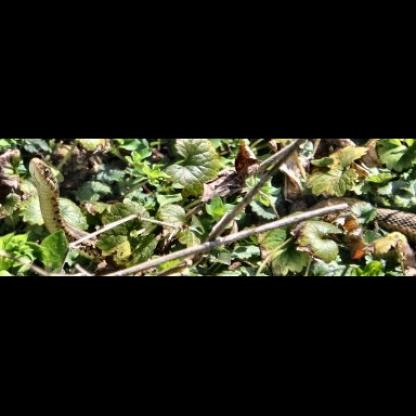Snake: (26, 149, 86, 257)
